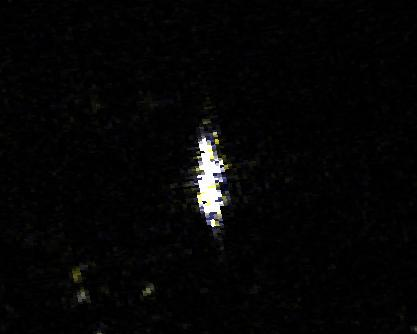ship: (187, 131, 232, 232)
